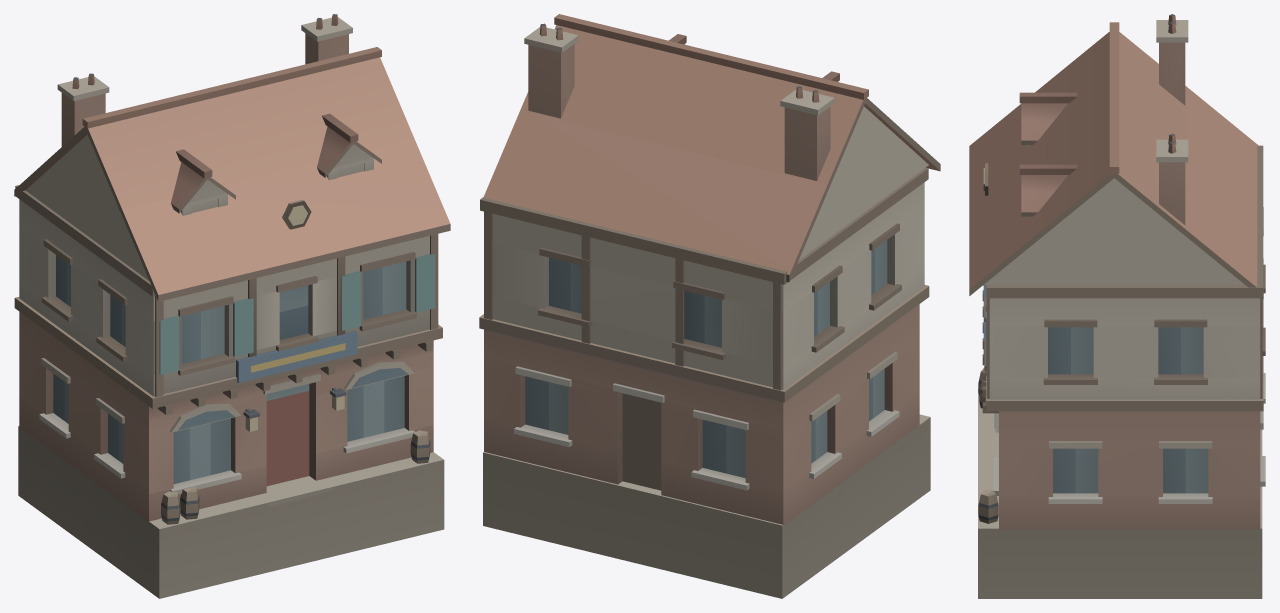
File: tavern.lod1.glb
3 renders of one model, left to right at view 1: azimuth 30°, elevation 25°; view 2: azimuth 150°, elevation 25°; view 3: azimuth 270°, elevation 25°, orthographic. The views are drawn at different scales.
Size of the model in its own units: 7.19 by 10.38 by 6.19.
